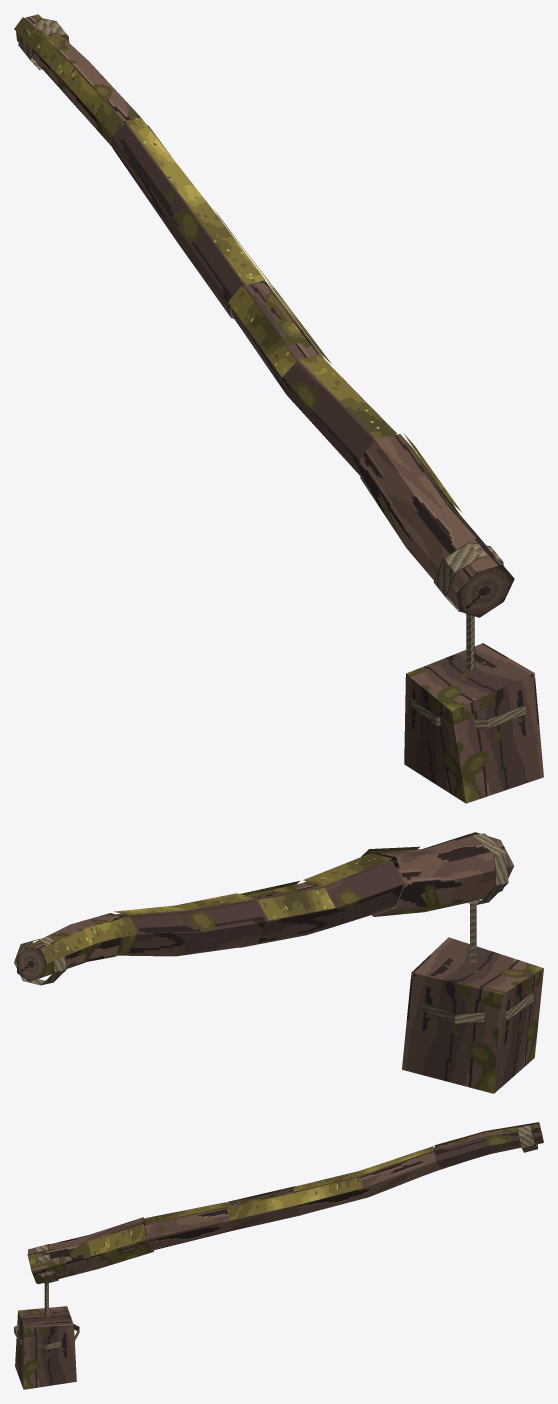
File: SM_SW18_WellSweepLever.fbx
3 views of the same model, one above another, from view 1: azimuth 30°, elevation 25°; view 2: azimuth 150°, elevation 25°; view 3: azimuth 270°, elevation 25° (orthographic). The views are drawn at different scales.
Parts seen in each view (by area): view 1: SW18a_Lever_Bark, SW18a_Lever_Moss, SW18a_Lever_Props; view 2: SW18a_Lever_Bark, SW18a_Lever_Moss, SW18a_Lever_Props; view 3: SW18a_Lever_Bark, SW18a_Lever_Moss, SW18a_Lever_Props.
Boxes of the visible parts, x1,y1,x2,y2 form: SW18a_Lever_Bark: [16, 14, 543, 803]; SW18a_Lever_Moss: [14, 17, 462, 512]; SW18a_Lever_Props: [18, 18, 525, 728]; SW18a_Lever_Bark: [26, 832, 543, 1093]; SW18a_Lever_Moss: [43, 846, 419, 962]; SW18a_Lever_Props: [14, 833, 533, 1023]; SW18a_Lever_Bark: [15, 1123, 543, 1389]; SW18a_Lever_Moss: [88, 1122, 540, 1256]; SW18a_Lever_Props: [14, 1124, 543, 1349].
Size of the model in its own units: 0.5397 by 2.3 by 4.41.
